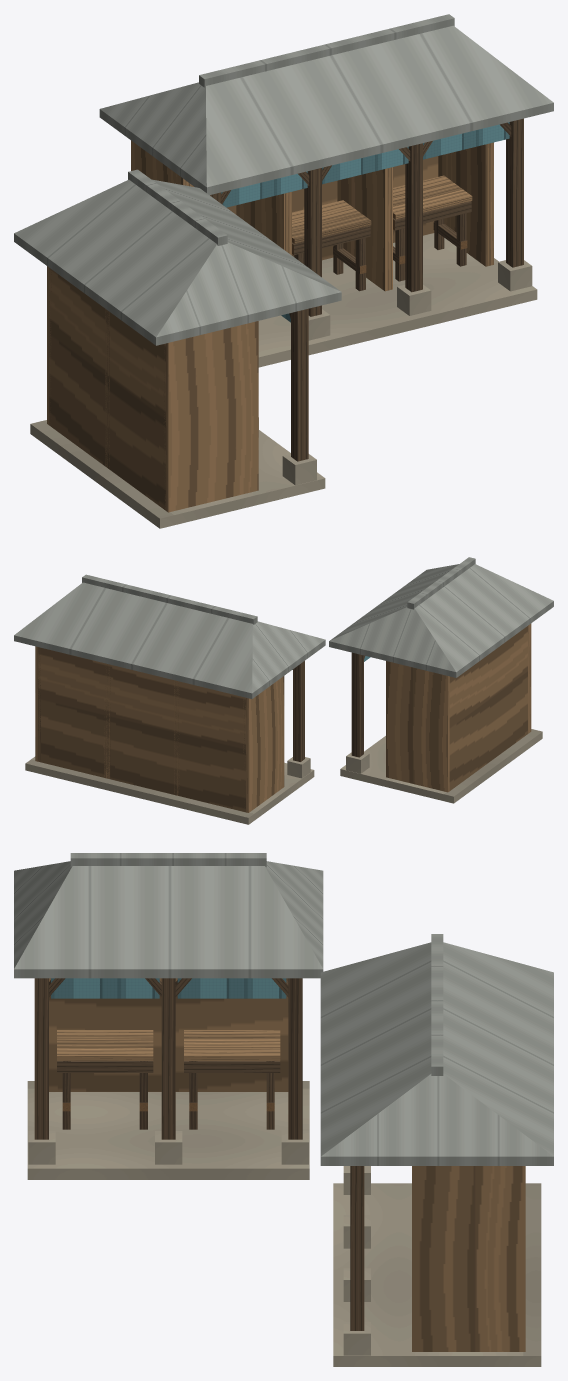
3 renders of one model, top to bottom at view 1: azimuth 30°, elevation 25°; view 2: azimuth 150°, elevation 25°; view 3: azimuth 270°, elevation 25°, orthographic. The views are drawn at different scales.
Visible parts, largest first — view 1: port-moresby; view 2: port-moresby; view 3: port-moresby.
Part boxes in pixels (box(x1,y1,x2,y2)): port-moresby: box(14, 14, 553, 528); port-moresby: box(14, 557, 553, 824); port-moresby: box(14, 853, 553, 1366).
Size of the model in its own units: 5.47 by 2.5 by 4.36.
Materials: 1 (1 with a texture image).
